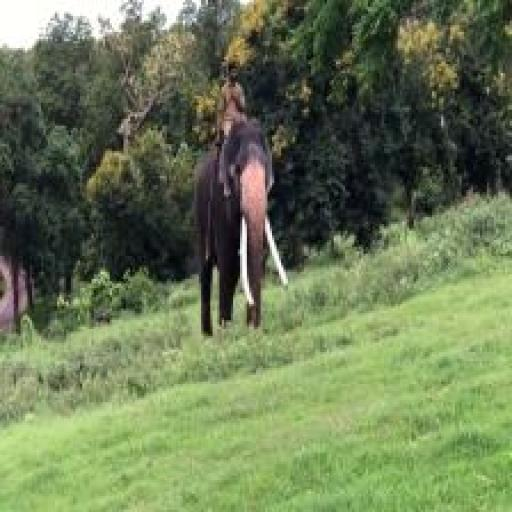Elephant: (176, 108, 298, 356)
